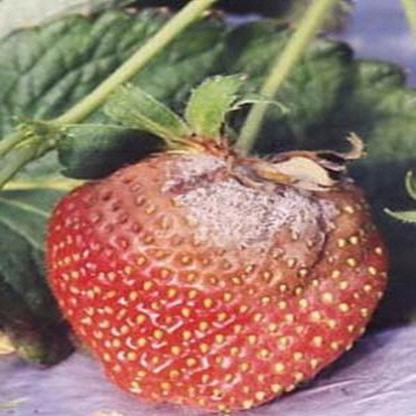Strawberry_Gray_Mold: (82, 131, 384, 304)
